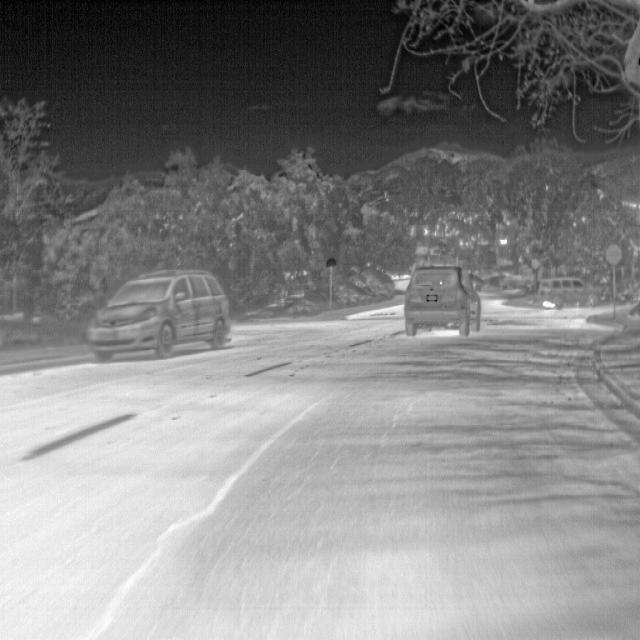Vehicle: (84, 267, 232, 360), (401, 263, 485, 339), (537, 274, 597, 311)
